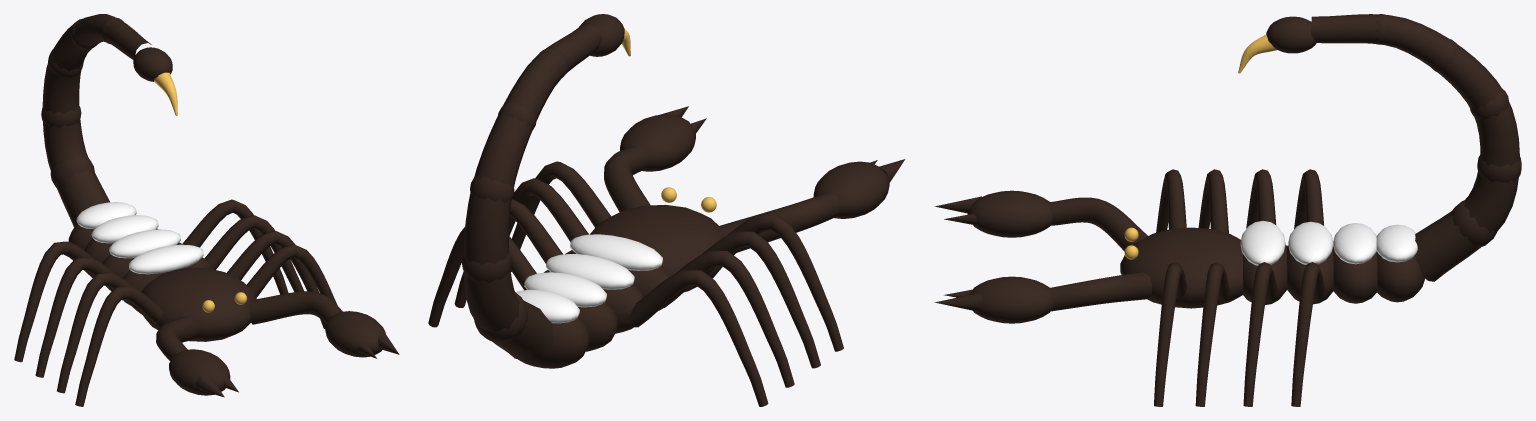
File: guardian-giantScorpion.glb
3 renders of one model, left to right at view 1: azimuth 30°, elevation 25°; view 2: azimuth 150°, elevation 25°; view 3: azimuth 270°, elevation 25°, orthographic. The views are drawn at different scales.
Visible parts, largest first — view 1: figurka; view 2: figurka; view 3: figurka.
Part boxes in pixels (bbox=[...]): figurka: bbox=[14, 14, 399, 406]; figurka: bbox=[428, 14, 905, 406]; figurka: bbox=[934, 14, 1521, 406].
Bounding box in the file's own units: 0.5946 × 0.5889 × 0.9827.
